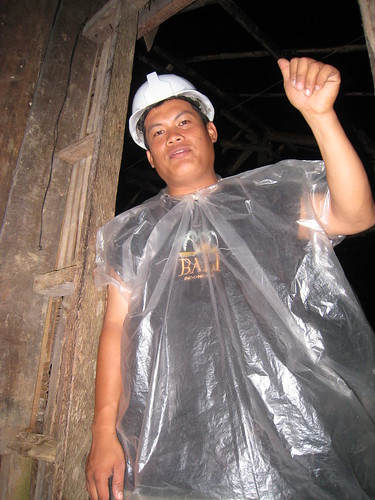person hardhat: (78, 53, 375, 500)
